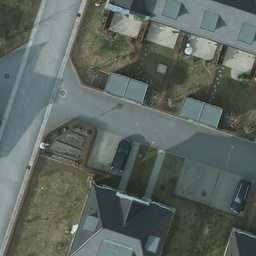car: (231, 181, 250, 216), (111, 139, 129, 172)
